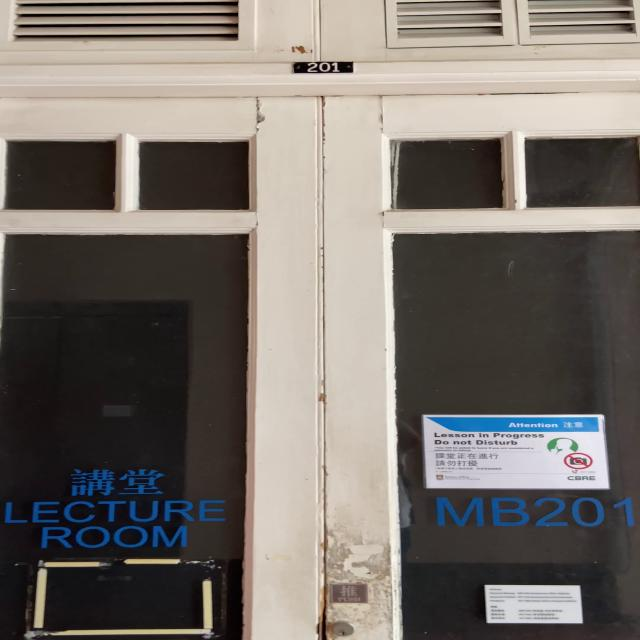room201: (291, 60, 358, 76)
room201Window: (425, 496, 640, 536)
